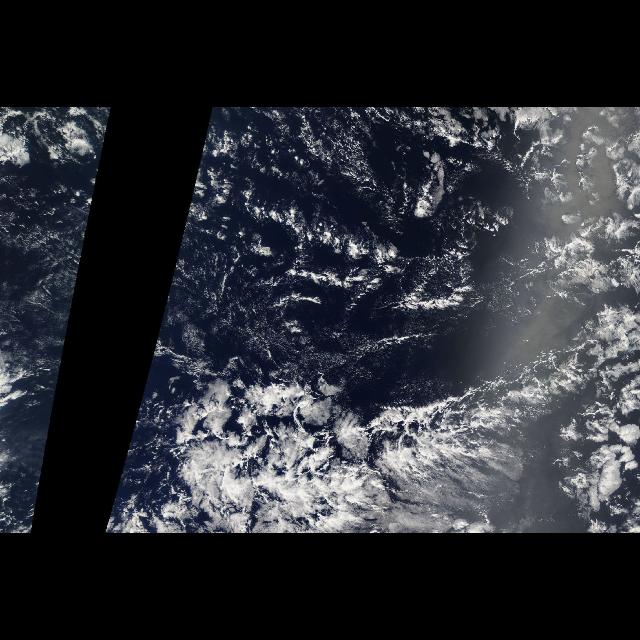Fish: (124, 348, 576, 530)
Gravel: (220, 119, 504, 347), (183, 356, 591, 454)
Sugar: (166, 275, 292, 369)
